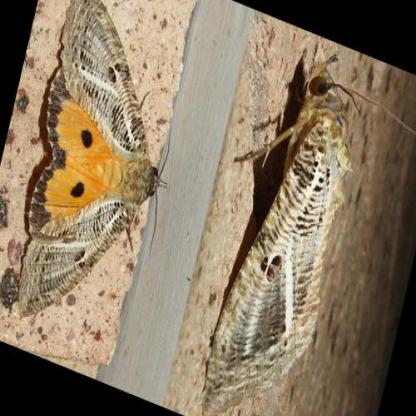fruit sucking moth: (205, 41, 352, 412), (19, 0, 162, 320)
